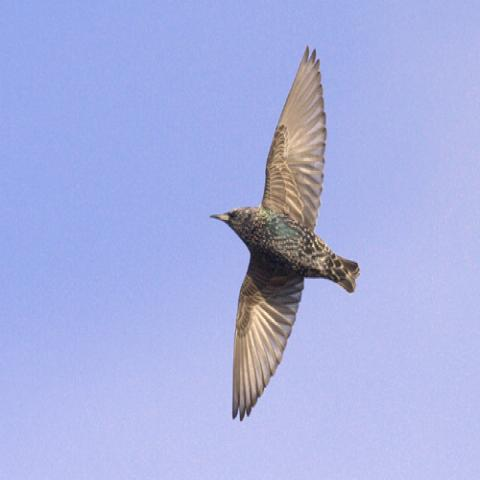bird: (206, 43, 361, 421)
